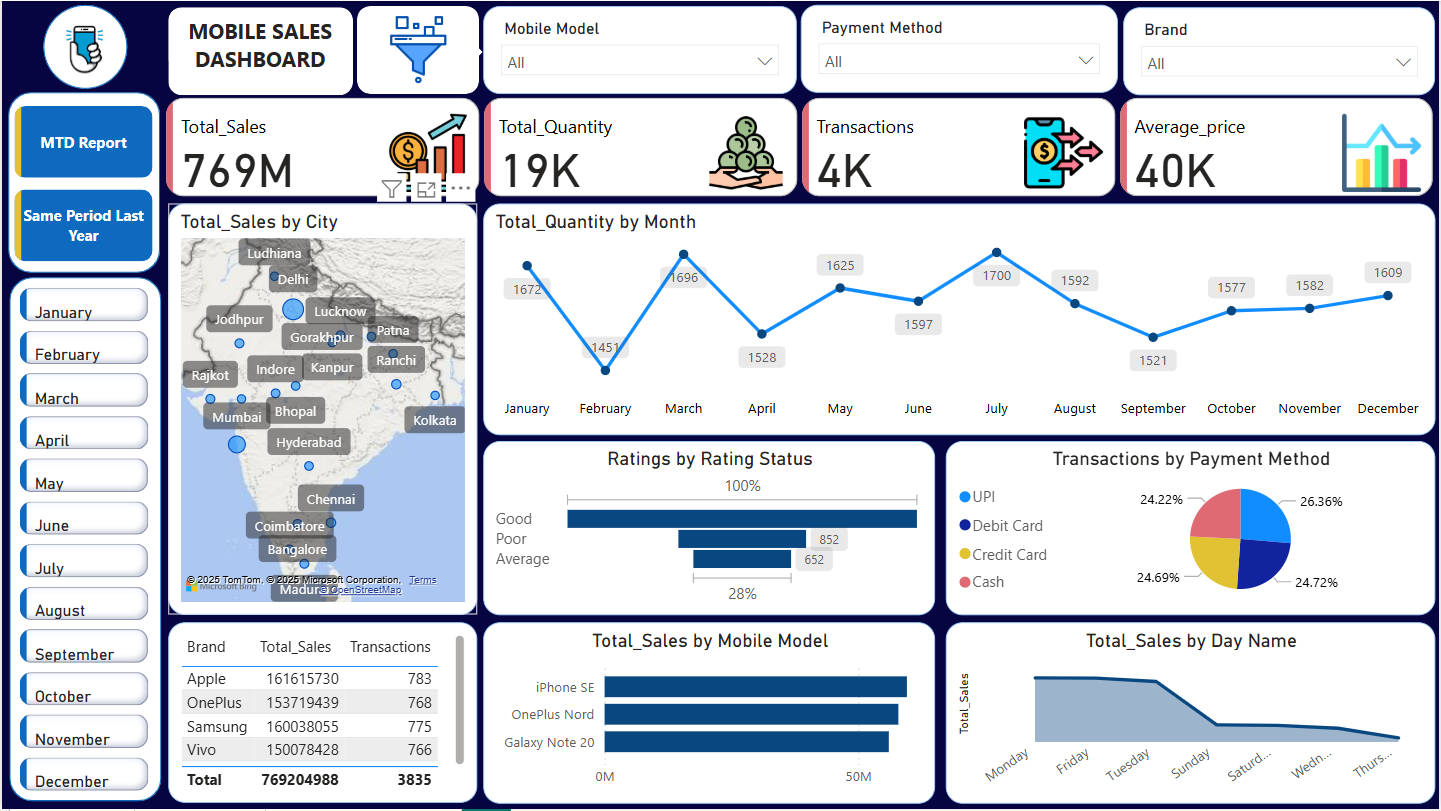

Layout of this report page (visuals, bound fields, positions):
{"tool":"powerbi","page":{"name":"Dashboard","canvas":[1280,720],"ordinal":0},"visuals":[{"type":"shape","box":[36.2,3.8,75,75],"z":0},{"type":"image","box":[41.2,8.8,65,68.8],"z":1000},{"type":"shape","box":[6.1,81.7,135.4,161],"z":2000},{"type":"shape","box":[6.2,246.3,135.4,467.3],"z":3000},{"type":"advancedSlicerVisual","fields":{"Values":["Custom_Calender.Date.Variation.Date Hierarchy.Month"]},"box":[11.5,250.7,124.4,469.4],"z":4000},{"type":"cardVisual","fields":{"Data":["Mobile_Sales_Data.Total_Sales","Mobile_Sales_Data.Total_Quantity","Mobile_Sales_Data.Transactions","Custom_Calender.Average_price"]},"box":[141.5,81.7,1139,98.8],"z":5000},{"type":"slicer","fields":{"Values":["Mobile_Sales_Data.Mobile Model"]},"box":[428.3,5,278.9,78.3],"z":6000},{"type":"slicer","fields":{"Values":["Mobile_Sales_Data.Payment Method"]},"box":[711.1,3.9,282.2,78.3],"z":7000},{"type":"slicer","fields":{"Values":["Mobile_Sales_Data.Brand"]},"box":[998.4,5.4,277.8,78.4],"z":8000},{"type":"shape","box":[316.1,4.9,108.7,78.3],"z":9000},{"type":"shape","box":[391.9,26.7,36.4,37.7],"z":10000},{"type":"image","box":[318.2,8.1,104.9,71.7],"z":11000},{"type":"shape","box":[147.8,5.2,164.6,78.4],"z":12000},{"type":"textbox","box":[153.8,8.8,152.5,73.8],"z":13000},{"type":"map","fields":{"Category":["Mobile_Sales_Data.City"],"Size":["Mobile_Sales_Data.Total_Sales"]},"box":[148.1,180.2,275.3,366.7],"z":14000},{"type":"lineChart","fields":{"Category":["Custom_Calender.Date.Variation.Date Hierarchy.Month","Custom_Calender.Date.Variation.Date Hierarchy.Day"],"Y":["Mobile_Sales_Data.Total_Quantity"]},"box":[428.4,180.2,848.1,206.2],"z":15000},{"type":"funnel","title":"Ratings by Rating Status","fields":{"Y":["CountNonNull(Mobile_Sales_Data.Customer Ratings)"],"Category":["Mobile_Sales_Data.Rating_Status"]},"box":[428.4,391.4,402.5,155.6],"z":16000},{"type":"pieChart","fields":{"Y":["Mobile_Sales_Data.Transactions"],"Category":["Mobile_Sales_Data.Payment Method"]},"box":[840.7,391.4,435.8,155.6],"z":17000},{"type":"clusteredBarChart","fields":{"Category":["Mobile_Sales_Data.Mobile Model"],"Y":["Mobile_Sales_Data.Total_Sales"]},"box":[428.4,553.1,402.5,161.7],"z":18000},{"type":"areaChart","fields":{"Y":["Mobile_Sales_Data.Total_Sales"],"Category":["Custom_Calender.Day Name"]},"box":[840.7,553.1,435.8,161.7],"z":19000},{"type":"tableEx","fields":{"Values":["Mobile_Sales_Data.Brand","Mobile_Sales_Data.Total_Sales","Mobile_Sales_Data.Transactions"]},"box":[148.1,553.1,275.3,160.5],"z":20000},{"type":"pageNavigator","box":[11.2,93.8,123.8,138.8],"z":21000}]}

Visuals, with their boxes in screenshot pixels (x1, y1, x2, y2), scaled from the page's 1280x720 canvas onto the 1441x811 screenshot:
shape: (x1=41, y1=4, x2=125, y2=89)
image: (x1=46, y1=10, x2=120, y2=87)
shape: (x1=7, y1=92, x2=159, y2=273)
shape: (x1=7, y1=277, x2=159, y2=804)
advancedSlicerVisual - Custom_Calender.Date.Variation.Date Hierarchy.Month: (x1=13, y1=282, x2=153, y2=810)
cardVisual - Mobile_Sales_Data.Total_Sales x Mobile_Sales_Data.Total_Quantity: (x1=159, y1=92, x2=1440, y2=203)
slicer - Mobile_Sales_Data.Mobile Model: (x1=482, y1=6, x2=796, y2=94)
slicer - Mobile_Sales_Data.Payment Method: (x1=801, y1=4, x2=1118, y2=93)
slicer - Mobile_Sales_Data.Brand: (x1=1124, y1=6, x2=1437, y2=94)
shape: (x1=356, y1=6, x2=478, y2=94)
shape: (x1=441, y1=30, x2=482, y2=73)
image: (x1=358, y1=9, x2=476, y2=90)
shape: (x1=166, y1=6, x2=352, y2=94)
textbox: (x1=173, y1=10, x2=345, y2=93)
map - Mobile_Sales_Data.City x Mobile_Sales_Data.Total_Sales: (x1=167, y1=203, x2=477, y2=616)
lineChart - Custom_Calender.Date.Variation.Date Hierarchy.Month x Custom_Calender.Date.Variation.Date Hierarchy.Day: (x1=482, y1=203, x2=1437, y2=435)
"Ratings by Rating Status" funnel: (x1=482, y1=441, x2=935, y2=616)
pieChart - Mobile_Sales_Data.Transactions x Mobile_Sales_Data.Payment Method: (x1=946, y1=441, x2=1437, y2=616)
clusteredBarChart - Mobile_Sales_Data.Mobile Model x Mobile_Sales_Data.Total_Sales: (x1=482, y1=623, x2=935, y2=805)
areaChart - Mobile_Sales_Data.Total_Sales x Custom_Calender.Day Name: (x1=946, y1=623, x2=1437, y2=805)
tableEx - Mobile_Sales_Data.Brand x Mobile_Sales_Data.Total_Sales: (x1=167, y1=623, x2=477, y2=804)
pageNavigator: (x1=13, y1=106, x2=152, y2=262)
